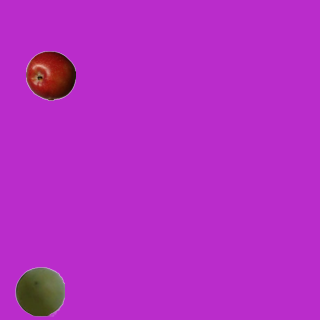Apple Braeburn: (25, 50, 75, 100)
Grape White 4: (14, 266, 64, 316)
